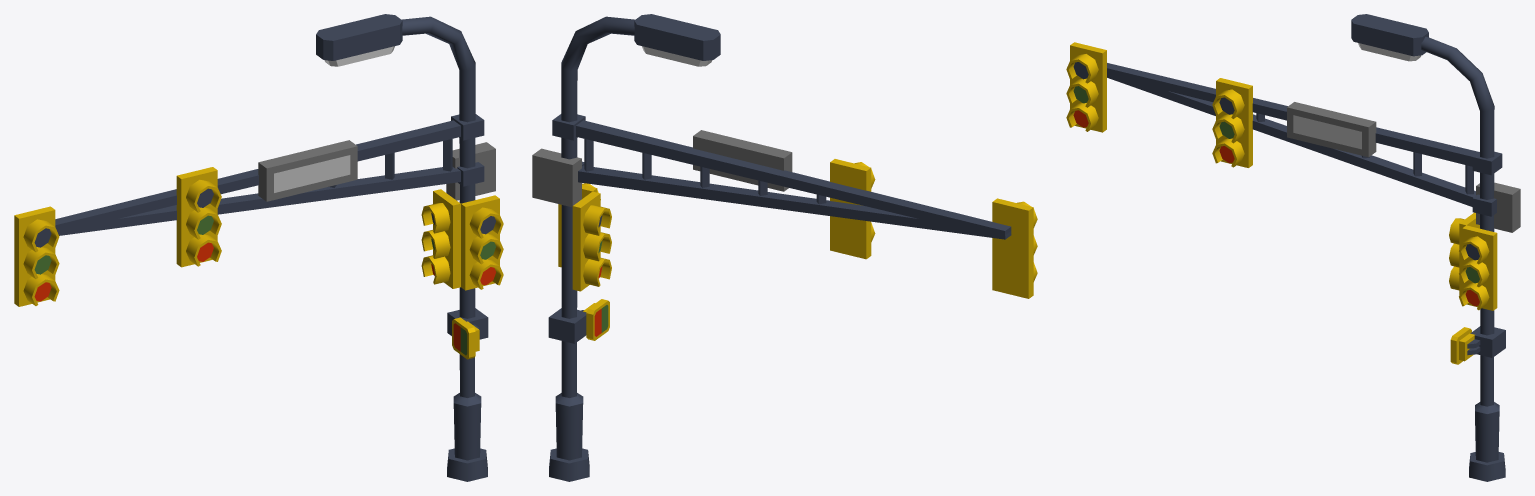
File: traffic_light.fbx
3 renders of one model, left to right at view 1: azimuth 30°, elevation 25°; view 2: azimuth 150°, elevation 25°; view 3: azimuth 330°, elevation 25°, orthographic. The views are drawn at different scales.
Visible parts, largest first — view 1: traffic_light; view 2: traffic_light; view 3: traffic_light.
Boxes of the visible parts, <box> form: traffic_light: <box>14,14,503,481</box>; traffic_light: <box>532,14,1037,481</box>; traffic_light: <box>1066,14,1520,481</box>.
Size of the model in its own units: 862 by 801 by 101.
